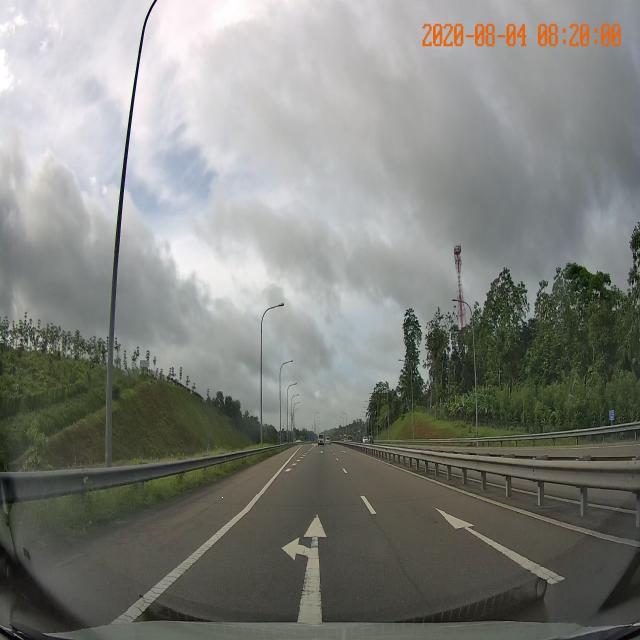forward_lft: (117, 495, 445, 610)
